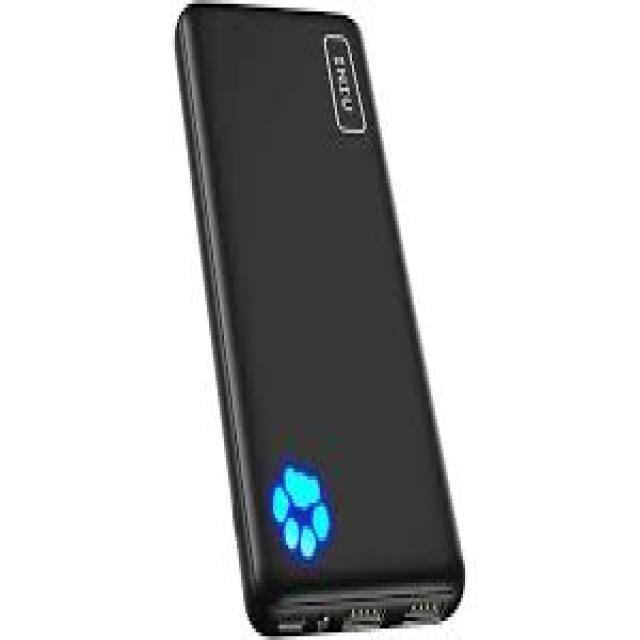power_bank: (171, 3, 471, 640)
